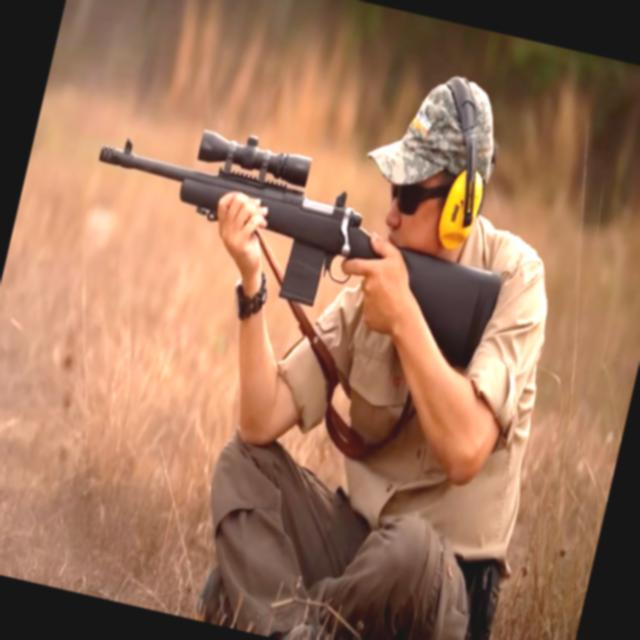rifle: (58, 94, 530, 390)
